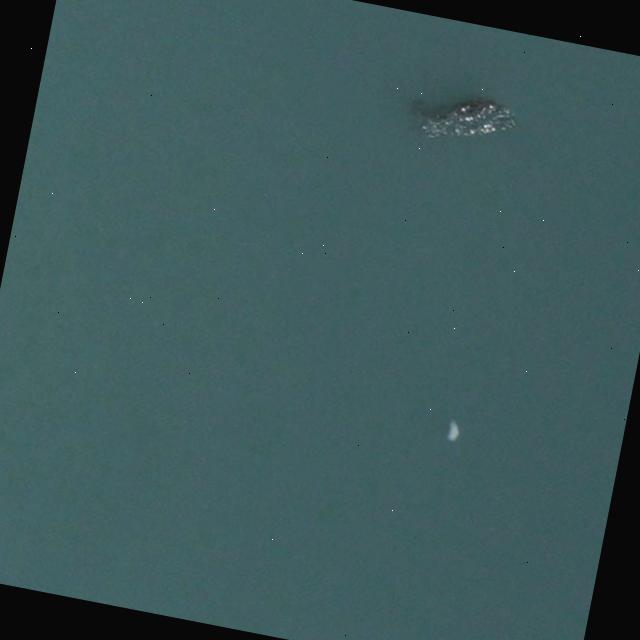seal: (425, 95, 501, 124)
